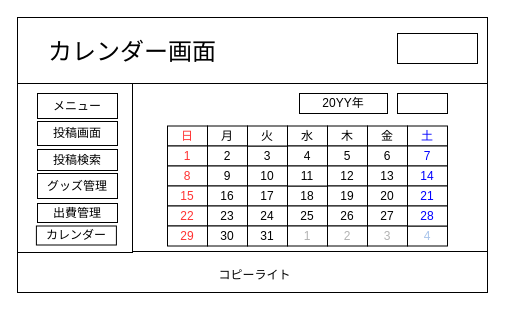
The diagram is 505 pixels wide and 310 high, and some of its shapes have lost their labels. Here are the shapes that lost their labels. From the top down, the centre of each, then its label:
point 437,48: ログアウト
point 422,103: M月
